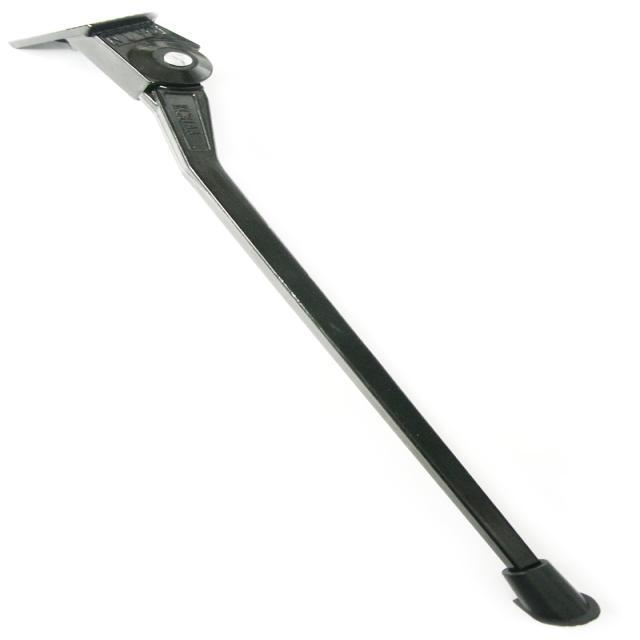Linggis: (9, 20, 614, 632)
